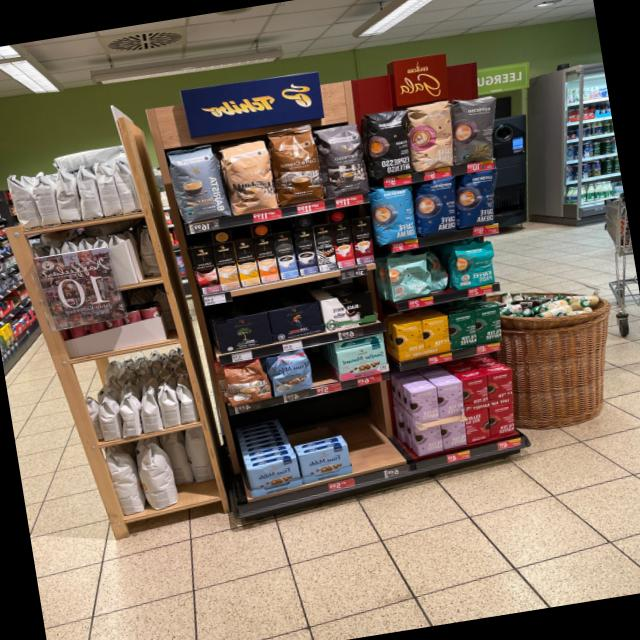BM Gemahlen: (213, 312, 274, 354)
BW Gemahlen: (319, 288, 378, 332)
Barista CC: (166, 140, 229, 223)
CC Mild: (219, 138, 278, 216)
CC Vollmundig: (222, 356, 272, 406)
CC Vollmundig 36 Pads: (268, 122, 324, 206)
Empty Shelf: (342, 393, 403, 471)
Espresso M Art: (316, 121, 370, 201)
FM 36 Pads: (268, 348, 314, 398)
FM Gemahlen: (245, 454, 302, 498), (298, 442, 355, 484)
LG Gemahlen: (268, 300, 324, 342)
SM Gemahlen: (334, 341, 390, 382)
Simo CC Colombia: (192, 244, 220, 295)
Simo CCMild bigpack: (234, 238, 261, 287)
Simo CCVollmundig bigpack: (254, 234, 280, 284)
Simo Decaff: (213, 241, 240, 291)
Simo Es Brazil: (332, 220, 358, 268)
Simo Es Caramel: (350, 216, 377, 264)
Simo Es Elegant: (312, 224, 337, 272)
Simo Es Kraft: (293, 227, 319, 276)
Simo Es Vanilla: (272, 230, 298, 280)
